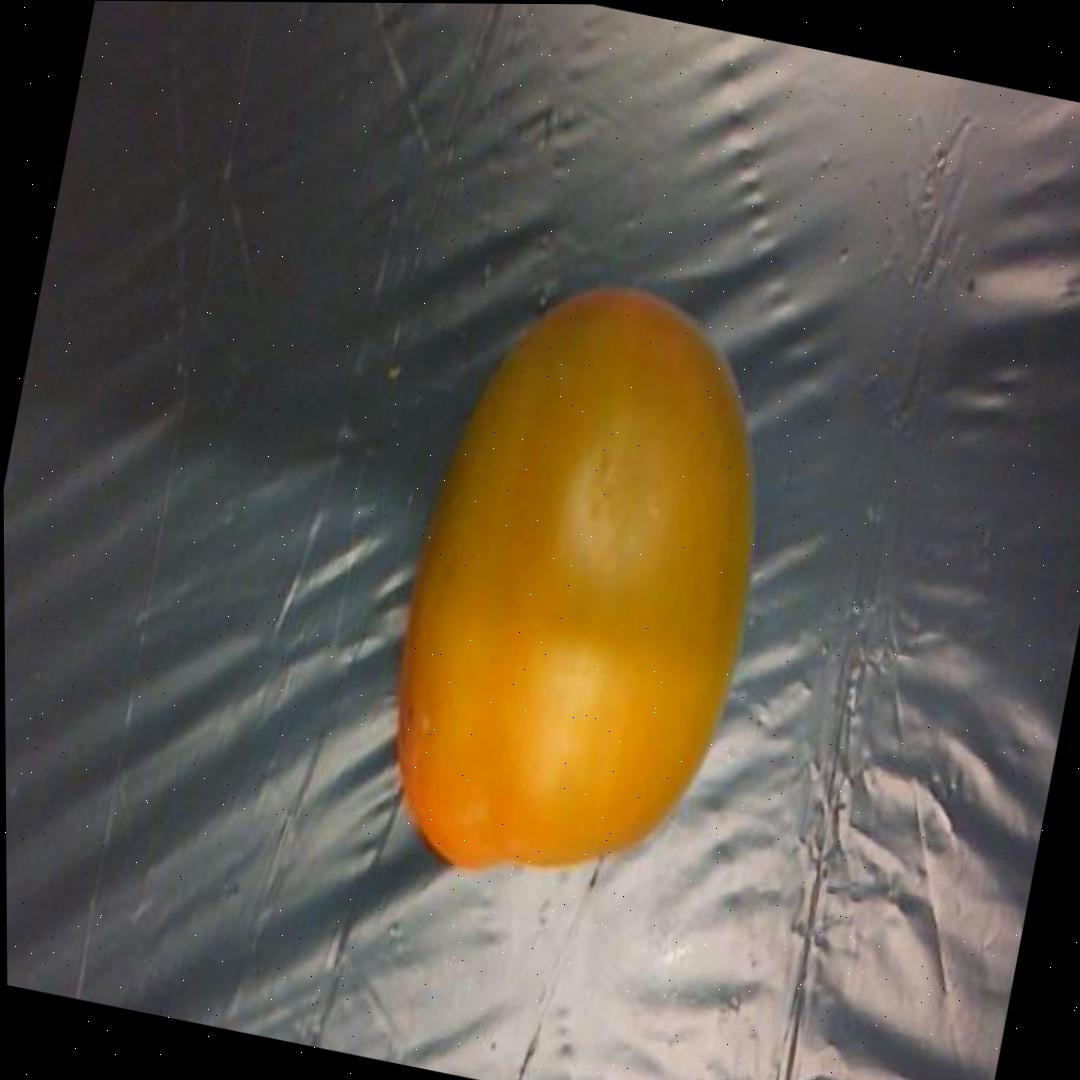mentah: (349, 245, 815, 921)
